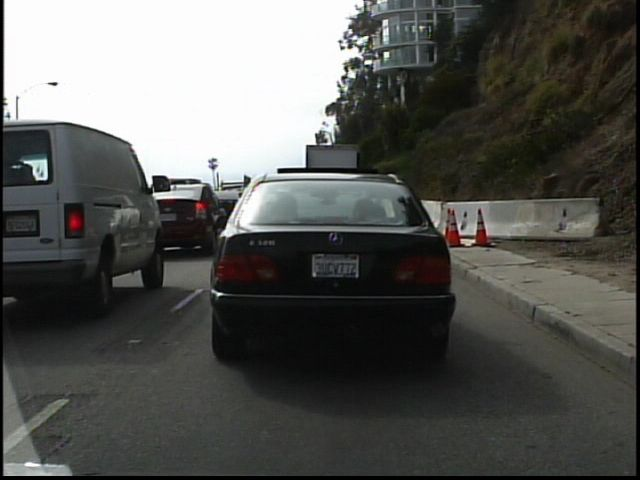car: (193, 160, 459, 378), (1, 123, 174, 328)
